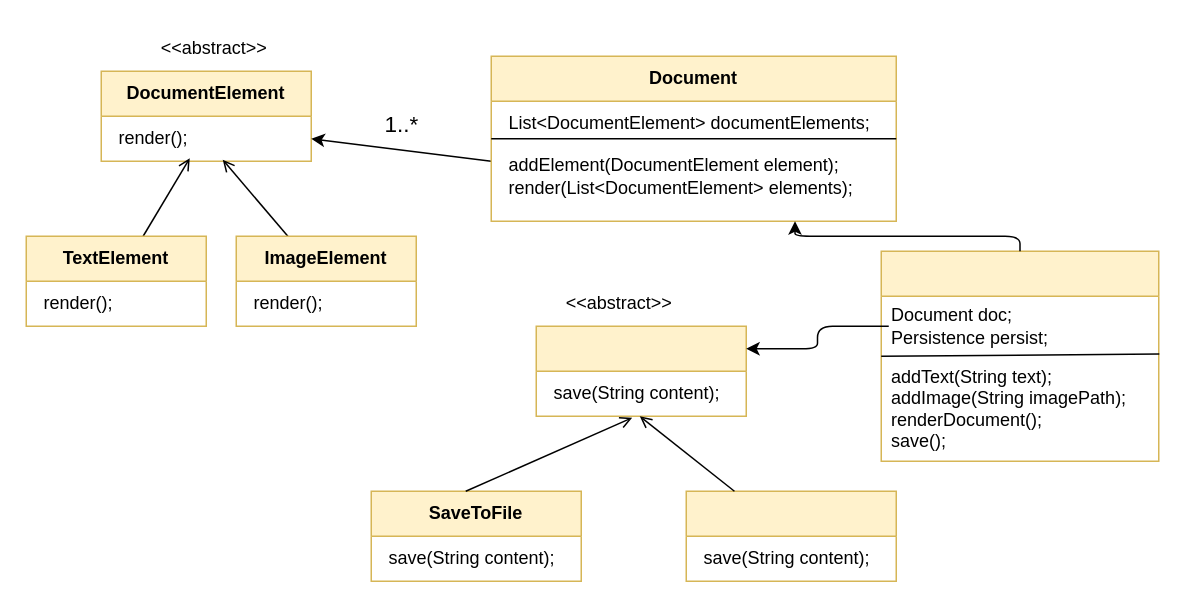
The diagram is 1188 pixels wide and 608 high, and some of its shapes have lost their labels. The box of each missing label's shape, as (x1, y1, x2, y2) in pixels:
DocumentEditor: (880, 250, 1159, 461)
Persistence: (535, 325, 746, 416)
SaveToDB: (685, 490, 896, 581)
